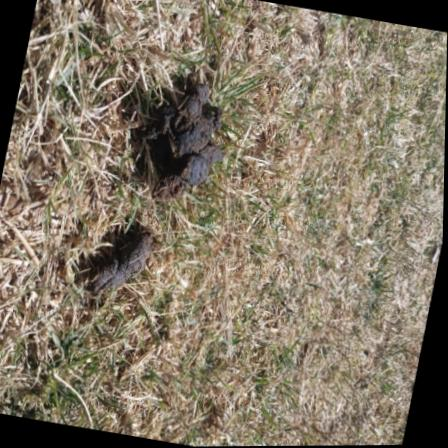dog-poop: (122, 63, 243, 213), (71, 212, 164, 317)
